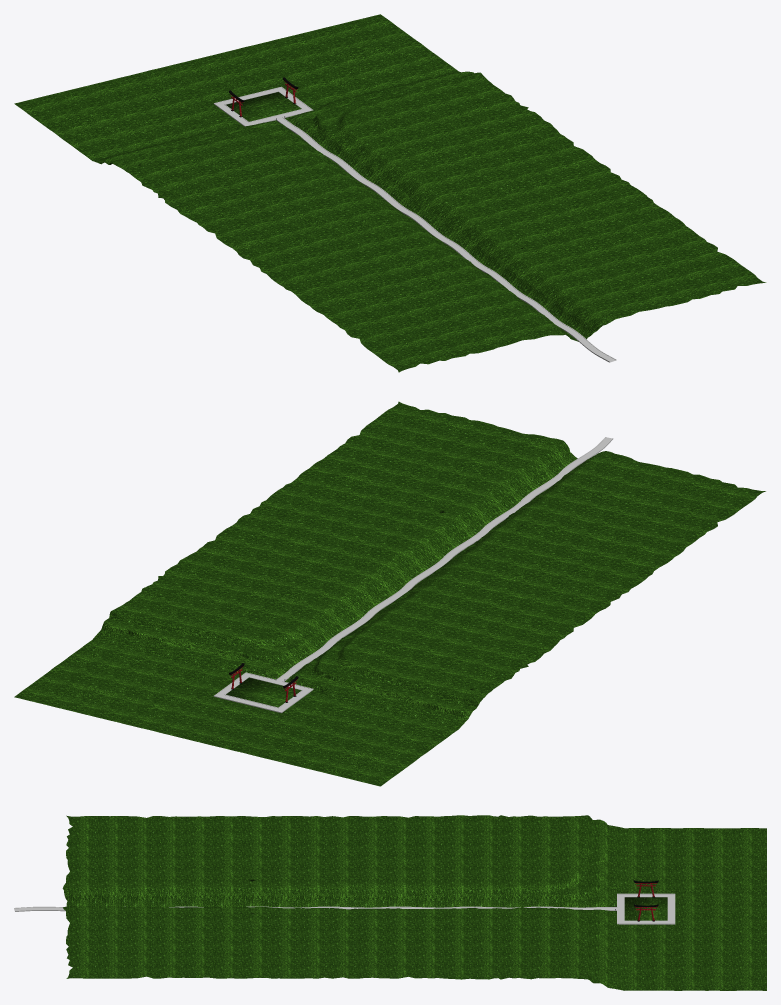
The model's file is JapanWhitebox.fbx.
3 views of the same model, one above another, from view 1: azimuth 30°, elevation 25°; view 2: azimuth 150°, elevation 25°; view 3: azimuth 270°, elevation 25° (orthographic). The views are drawn at different scales.
Parts seen in each view (by area): view 1: Grid.002, Cube.010, Cube.011, Cube.009; view 2: Grid.002, Cube.010, Cube.011, Cube.009; view 3: Grid.002, Cube.010, Cube.011, Cube.009.
Boxes of the visible parts, bbox=[...] form: Grid.002: bbox=[14, 14, 766, 372]; Cube.010: bbox=[276, 117, 616, 362]; Cube.011: bbox=[226, 92, 301, 121]; Cube.009: bbox=[213, 86, 313, 126]; Grid.002: bbox=[14, 401, 765, 786]; Cube.010: bbox=[276, 437, 613, 681]; Cube.011: bbox=[226, 677, 301, 707]; Cube.009: bbox=[213, 672, 313, 713]; Grid.002: bbox=[62, 815, 766, 990]; Cube.010: bbox=[14, 906, 616, 911]; Cube.011: bbox=[624, 897, 667, 920]; Cube.009: bbox=[617, 893, 675, 924].
Bounding box in the file's own units: 10111 × 510 × 19567.
